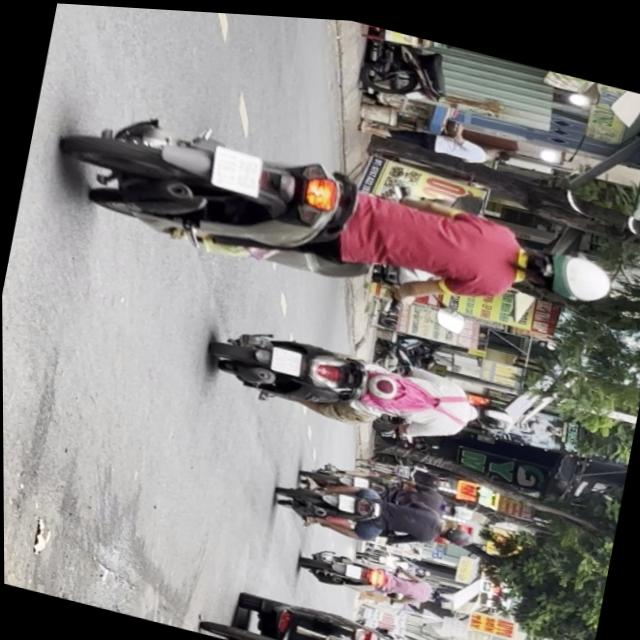helmet: (514, 231, 616, 305), (466, 394, 516, 429)
licenseplate: (51, 93, 623, 348), (202, 310, 525, 460)
nohelmet: (208, 143, 264, 194), (268, 343, 302, 373)
